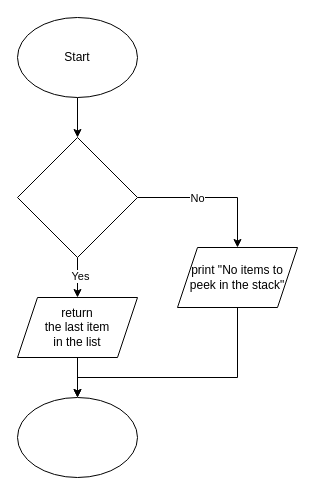
This 315x495 diagram has some shape labels left out. Each missing label, with the centre of its shape:
"if stack is not empty" belongs at [77,197].
"Stop" belongs at [77,437].
